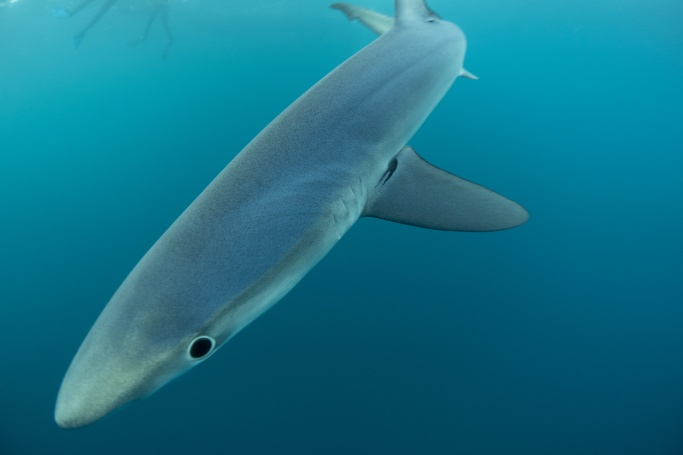Azul: (26, 1, 607, 433)
